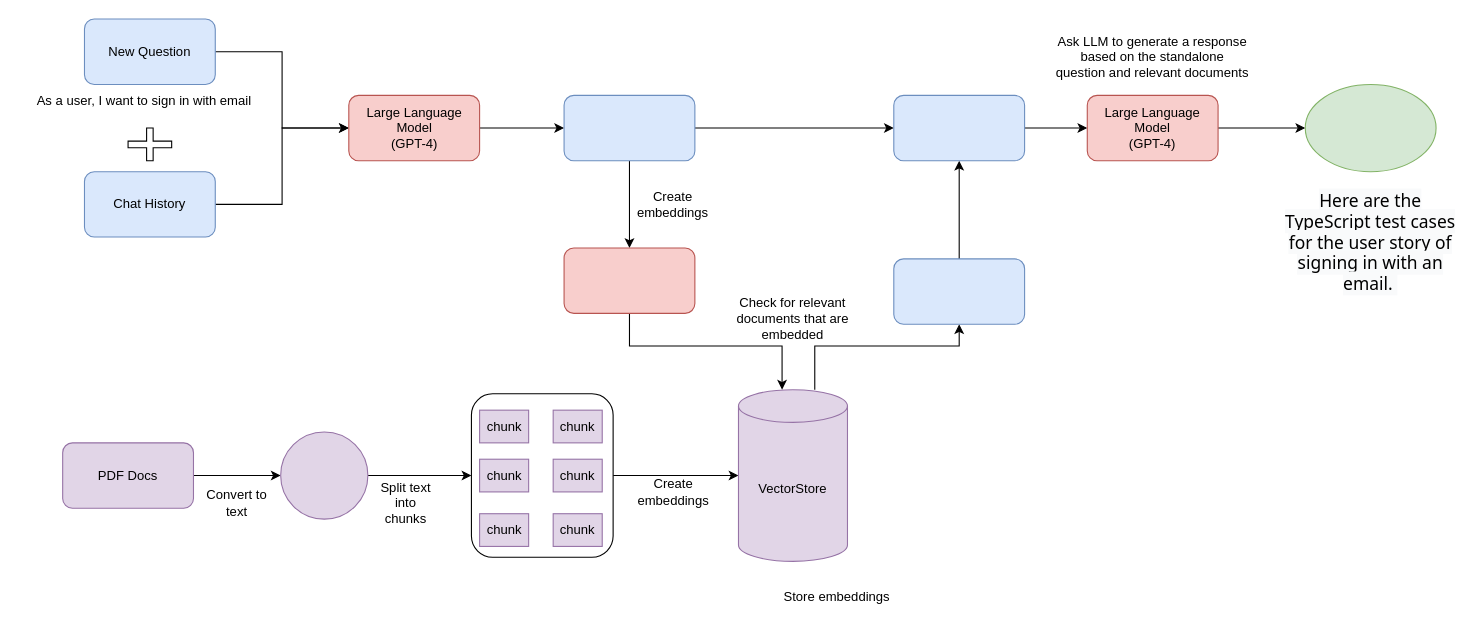
Image size: 1476x632. Some labels were removed from this diagram. Here are the shapes that lost their labels. From the top down, the centre of each, then its label:
At pixel 629 127: "Standalone Question".
At pixel 959 127: "Standalone Question + Relevant docs".
At pixel 1370 127: "Answer".
At pixel 629 280: "Embedding models (OpenAI Ada)".
At pixel 959 291: "Relevant docs".
At pixel 324 475: "Text".
